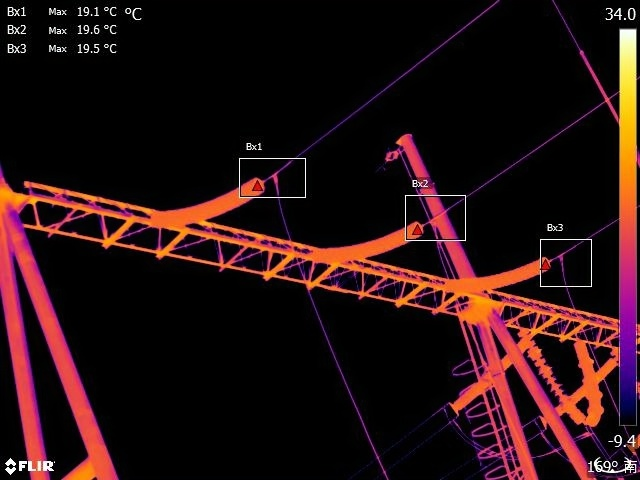clamp: (425, 212, 445, 237), (266, 167, 285, 191), (578, 426, 600, 445), (556, 248, 571, 272)
insulator: (148, 172, 268, 233), (454, 339, 532, 412), (527, 332, 585, 429), (307, 220, 424, 264), (441, 254, 547, 294), (556, 356, 617, 416), (572, 330, 604, 431)
